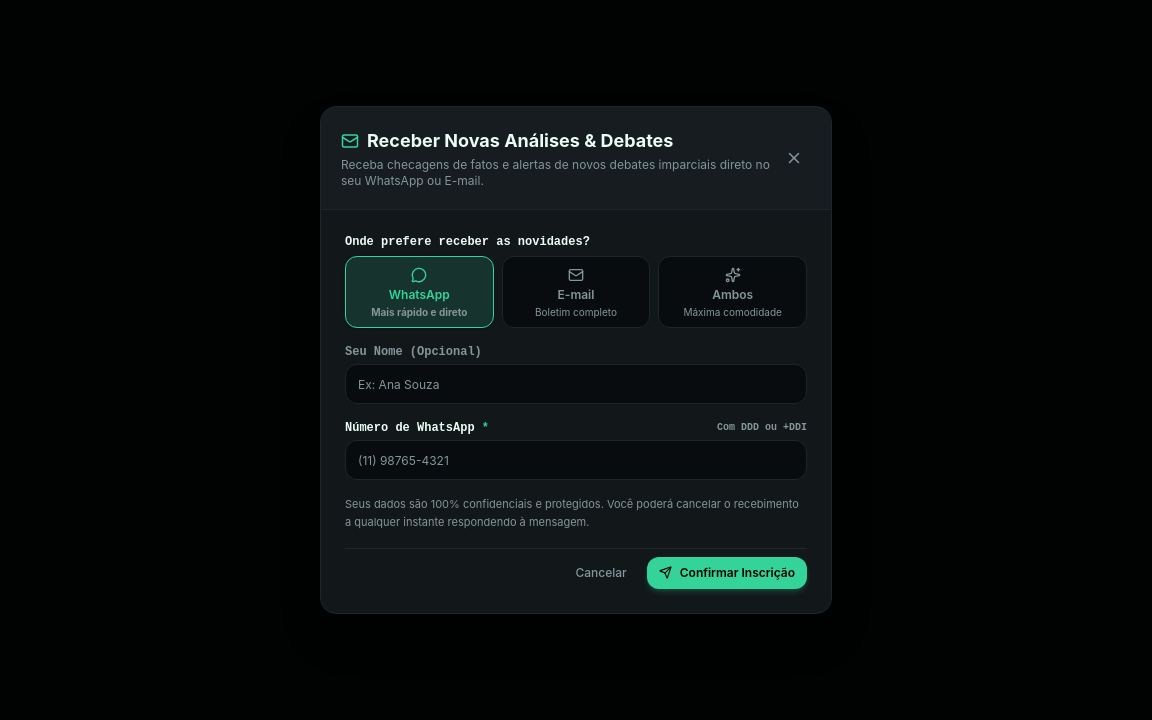
Test: NewsletterModal › displays error message when subscription fails
Type "11999998888" into the field with placeholder "(11) 98765-4321".
click(576, 460); type("11999998888")  # box [345, 440, 807, 480]
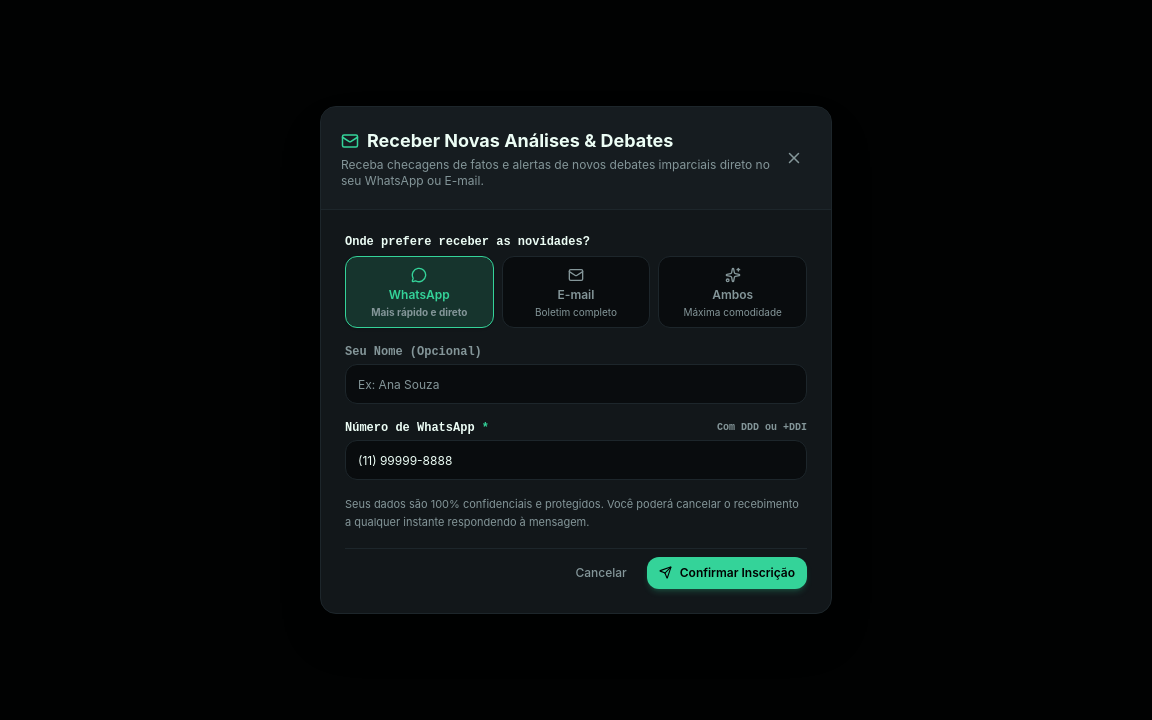
Click the button "Confirmar Inscrição".
click(727, 573)  # box [647, 557, 807, 589]
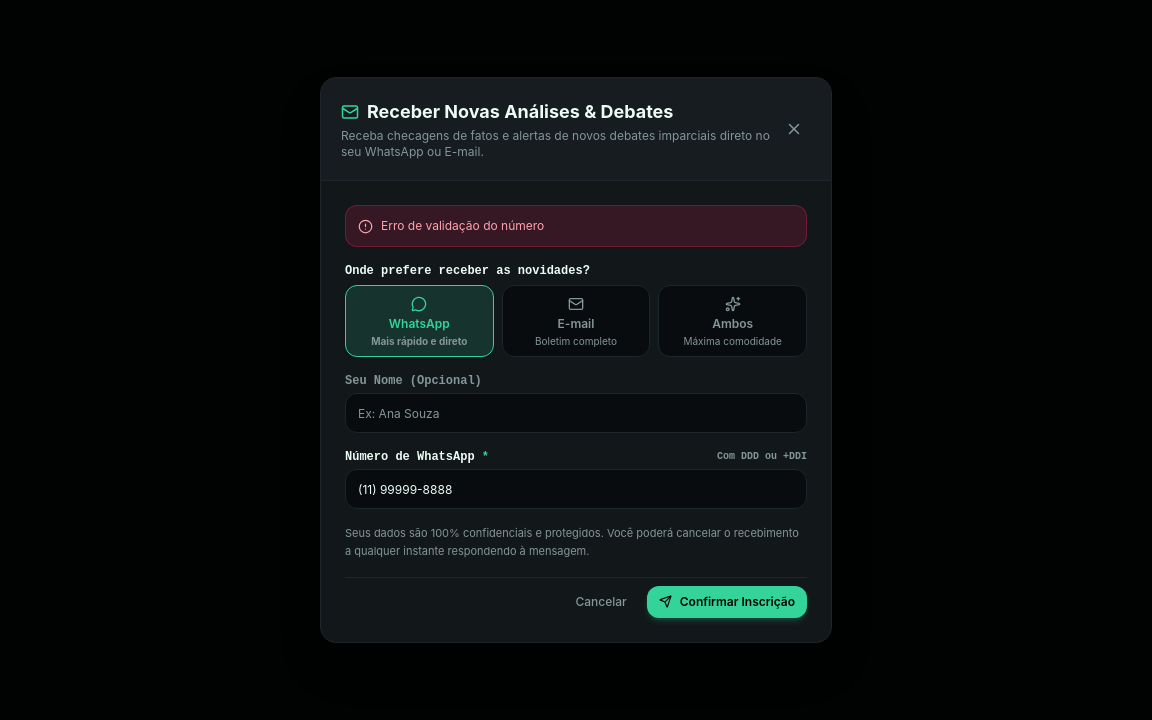
Now the text "Erro de validação do número" is shown, box [381, 218, 544, 234]
